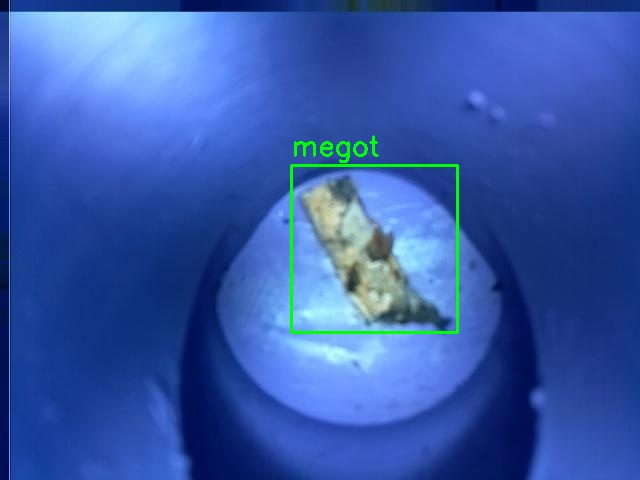megot: (291, 165, 457, 332)
